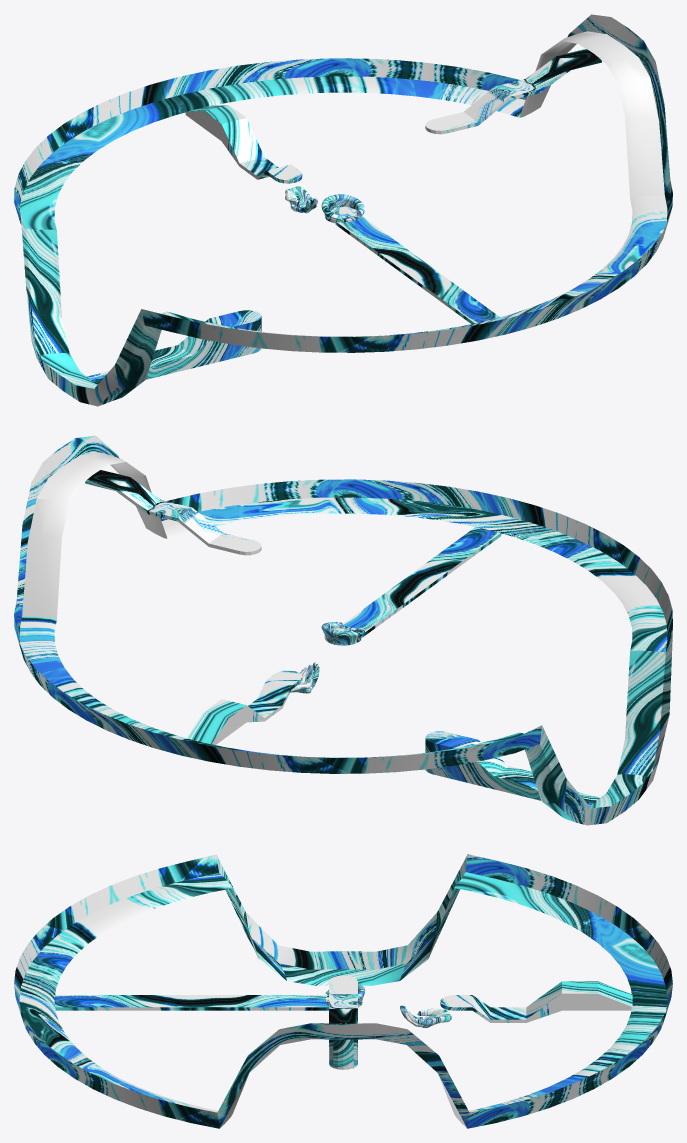
Rendered from 02_wheel of nyx.fbx.
The picture shows the model from 3 angles, top to bottom: view 1: azimuth 30°, elevation 25°; view 2: azimuth 150°, elevation 25°; view 3: azimuth 270°, elevation 25°; orthographic projection.
Visible parts, largest first — view 1: Circle.007, Plane.008, Plane.011, Plane.009, Circle.006, Plane.007; view 2: Circle.007, Plane.008, Plane.011, Plane.009, Circle.006; view 3: Circle.007, Plane.008, Plane.011, Plane.009, Plane.007.
Part boxes in pixels (x1,y1,x2,y2): Circle.007: (14,14,672,406); Plane.008: (185,105,499,323); Plane.011: (425,49,601,134); Plane.009: (87,310,261,384); Circle.006: (321,194,364,223); Plane.007: (285,186,317,213); Circle.007: (14,435,672,825); Plane.008: (186,527,501,744); Plane.011: (85,470,261,555); Plane.009: (425,731,599,805); Circle.006: (321,622,364,645); Circle.007: (14,854,672,1128); Plane.008: (54,981,632,1022); Plane.011: (329,975,357,1023); Plane.009: (329,1039,357,1069); Plane.007: (400,1005,451,1027).
Size of the model in its own units: 33.41 by 12.65 by 33.41.
